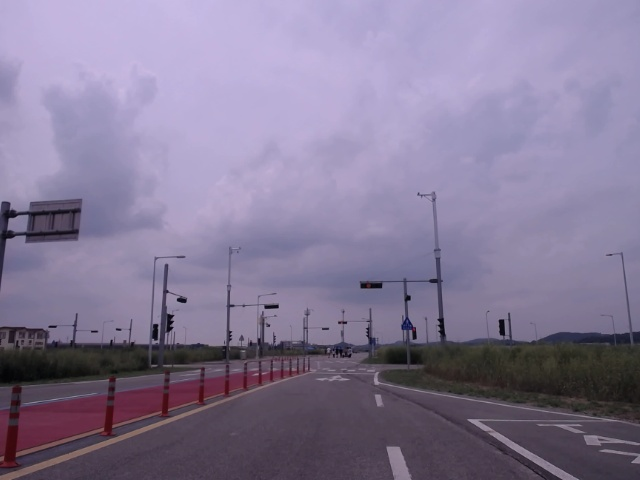orange_4: (359, 282, 383, 290), (337, 320, 349, 326)
